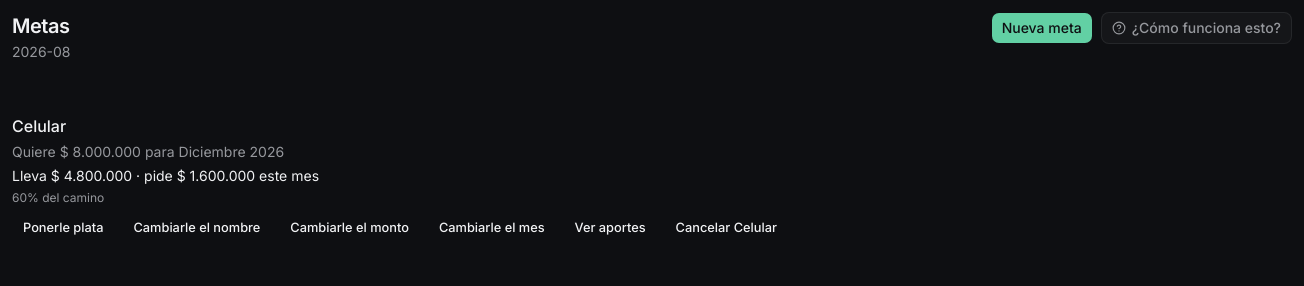
Scenario: AC-42 — a contribution is a listed record, and it can be removed › A contribution given back by a cancellation is listed as such
What coordinates should you click on to do the following:
click the button "Ver aportes"
I would click on:
 (610, 228)
Its box is [564,214,657,242].
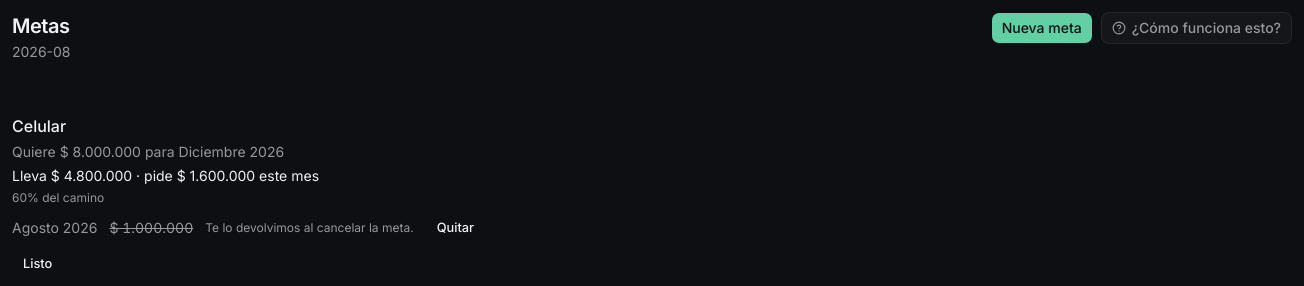
Expected: the text "Te lo devolvimos al cancelar la meta." is shown, [205,220,414,236]
